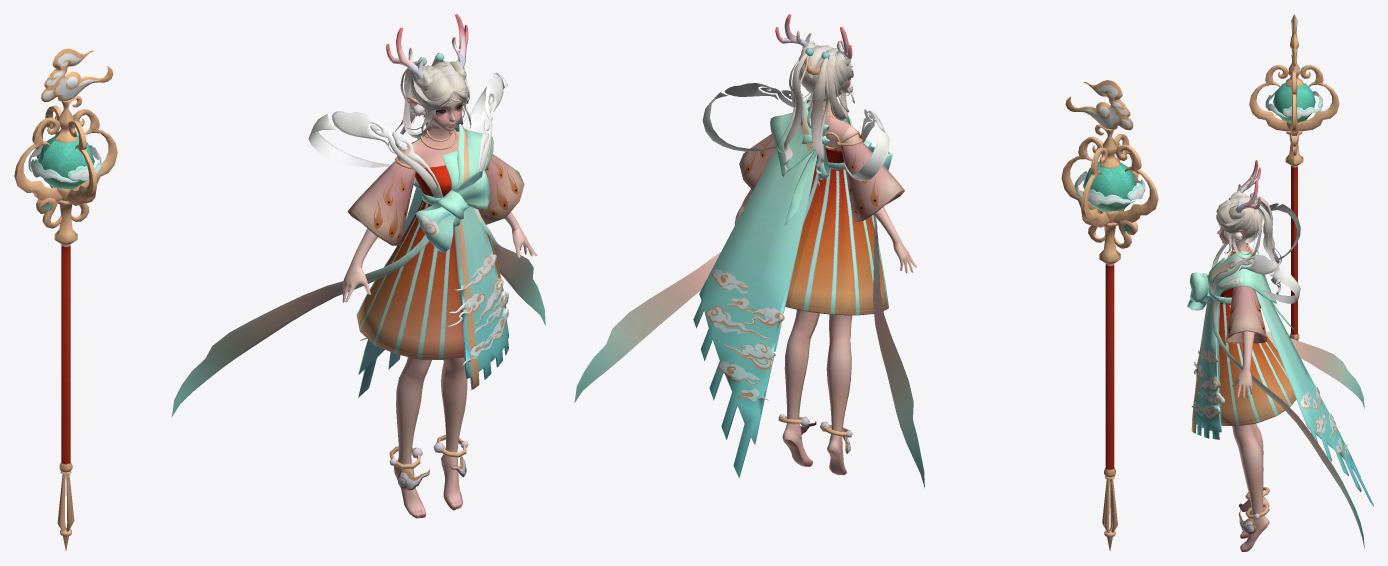
File: yao-fz.glb
The picture shows the model from 3 angles, left to right: view 1: azimuth 30°, elevation 25°; view 2: azimuth 150°, elevation 25°; view 3: azimuth 270°, elevation 25°; orthographic projection. The views are drawn at different scales.
Parts seen in each view (by area): view 1: 50502_Yao_High, 50502_Yao_OP_High, 50502_Yao_Hair_High, 50502_Yao_Face_High; view 2: 50502_Yao_High, 50502_Yao_OP_High, 50502_Yao_Hair_High; view 3: 50502_Yao_High, 50502_Yao_OP_High, 50502_Yao_Hair_High, 50502_Yao_Face_High.
Boxes of the visible parts, x1=… form: 50502_Yao_High: x1=14, y1=14, x2=537, y2=550; 50502_Yao_OP_High: x1=171, y1=72, x2=545, y2=417; 50502_Yao_Hair_High: x1=388, y1=58, x2=471, y2=156; 50502_Yao_Face_High: x1=406, y1=93, x2=463, y2=134; 50502_Yao_High: x1=693, y1=14, x2=1158, y2=550; 50502_Yao_OP_High: x1=574, y1=83, x2=924, y2=487; 50502_Yao_Hair_High: x1=777, y1=41, x2=854, y2=185; 50502_Yao_High: x1=1187, y1=14, x2=1373, y2=551; 50502_Yao_OP_High: x1=1211, y1=203, x2=1364, y2=549; 50502_Yao_Hair_High: x1=1216, y1=191, x2=1281, y2=301; 50502_Yao_Face_High: x1=1217, y1=227, x2=1246, y2=249.
Bounding box in the file's own units: 0.0254 × 0.022 × 0.00926.
4 materials, 4 textured.
